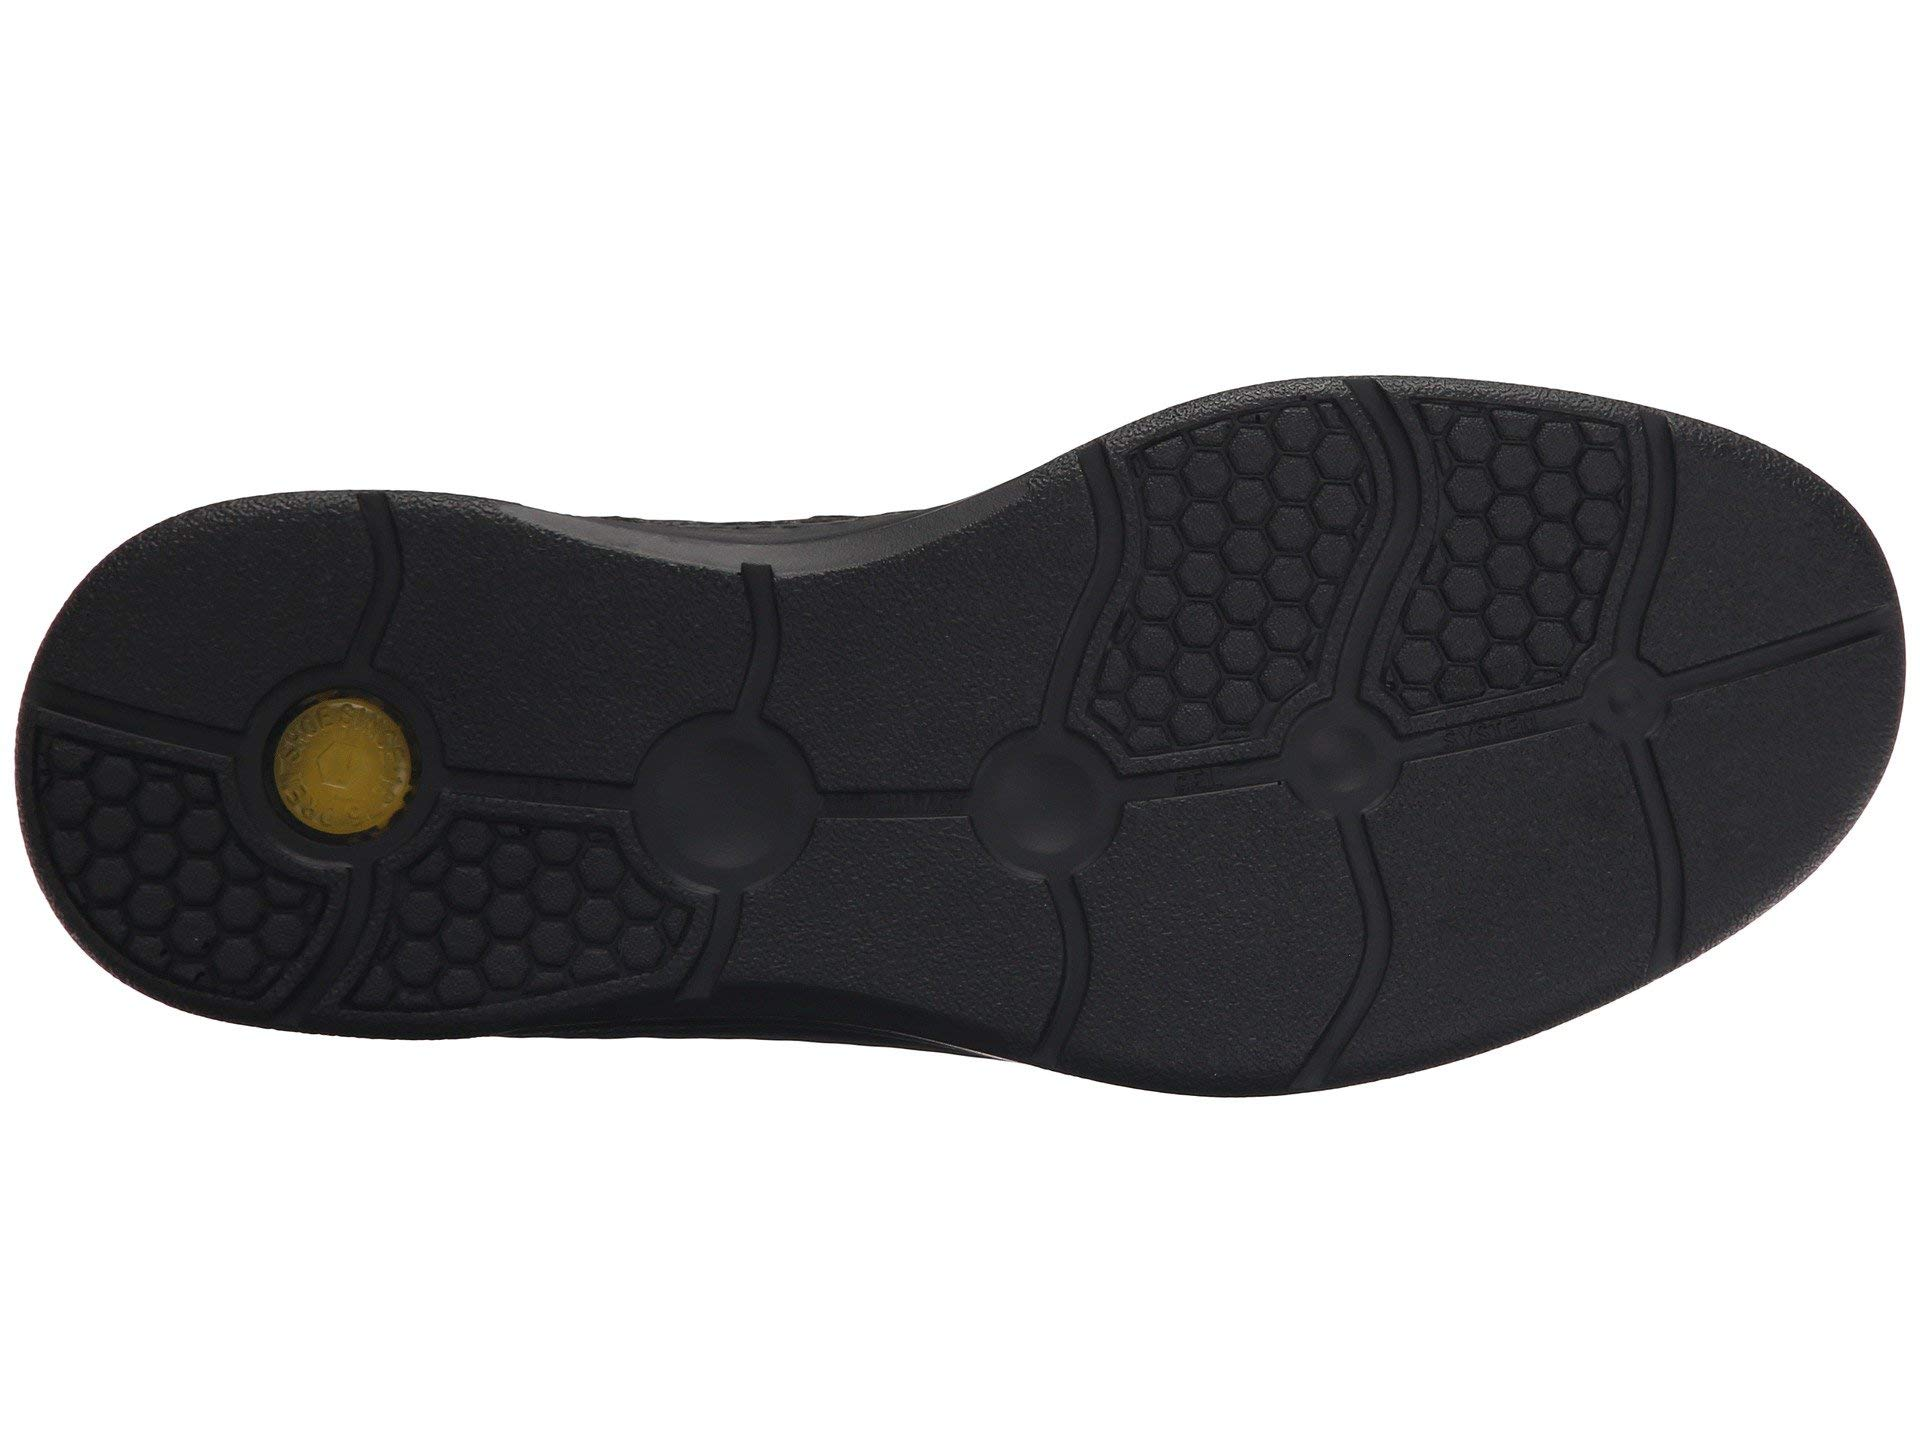circle: (86, 670, 420, 954), (909, 667, 1196, 923)
polygon: (86, 670, 420, 954)
